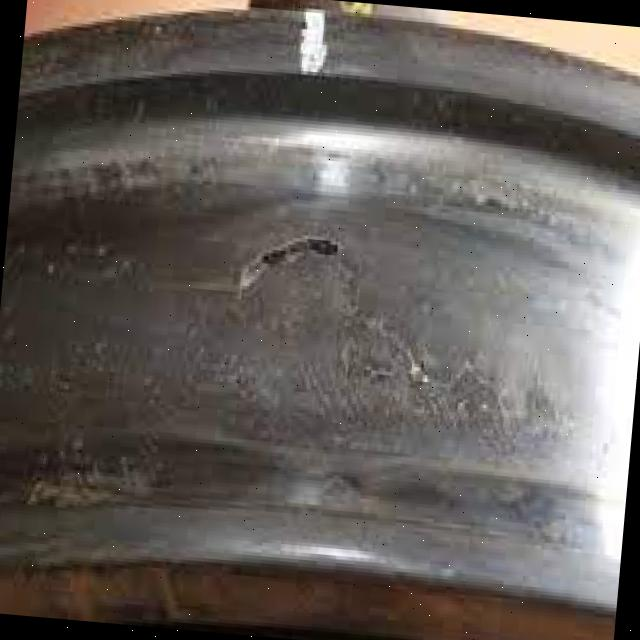Rollerpile: (23, 437, 172, 536)
